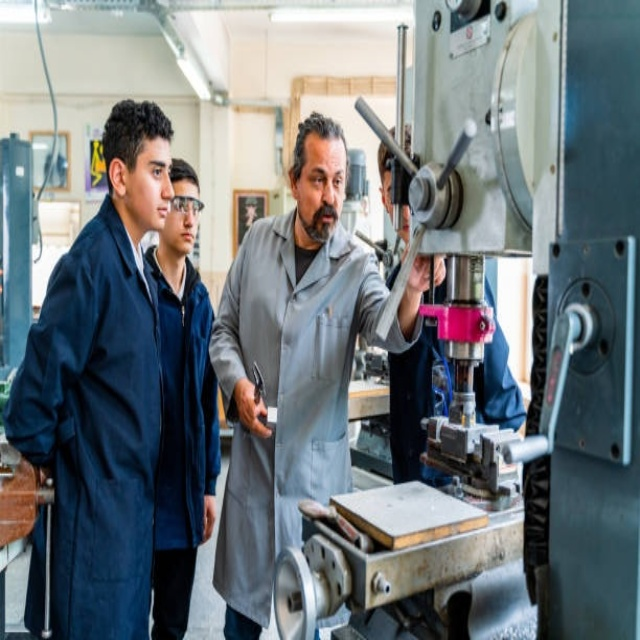Gafas: (169, 196, 204, 216)
Sin_gafas: (306, 162, 348, 191), (137, 157, 173, 182)
Sin_guantes: (234, 373, 277, 442), (401, 243, 448, 296), (202, 491, 216, 547)
Sin_mascara: (314, 204, 337, 240), (150, 196, 172, 229), (177, 224, 198, 249)
